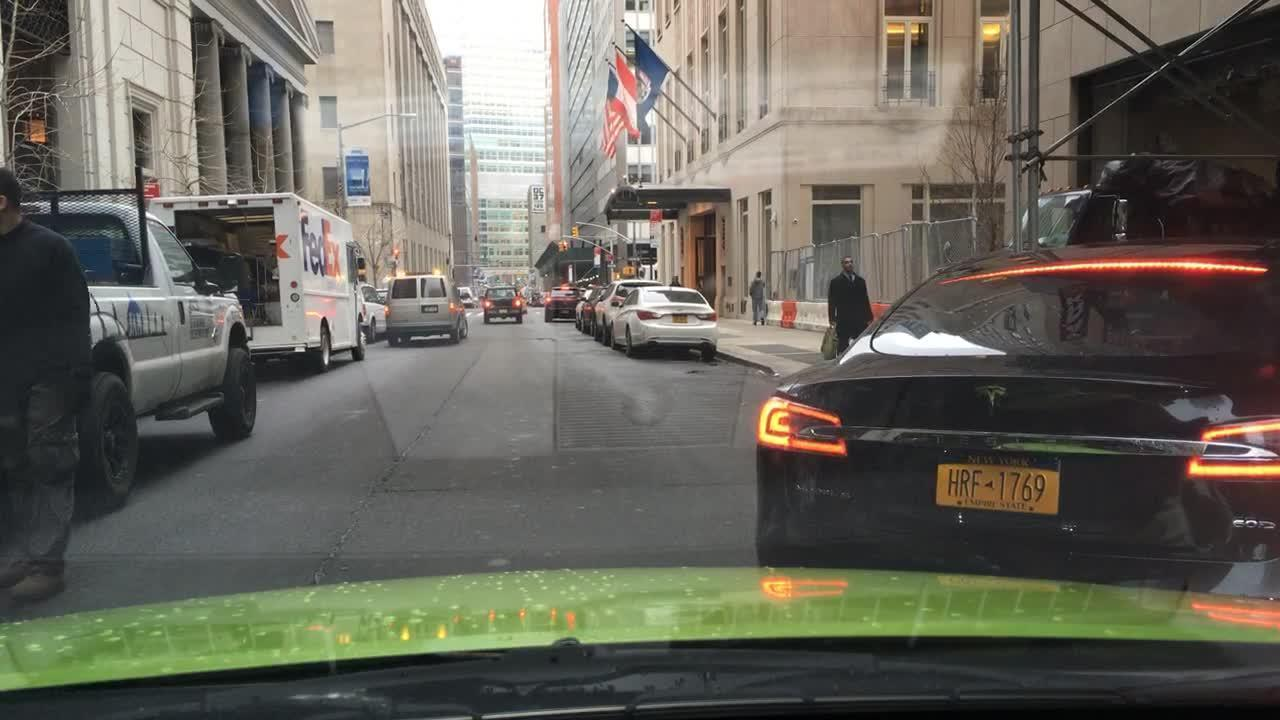no class: (971, 378, 1013, 420)
